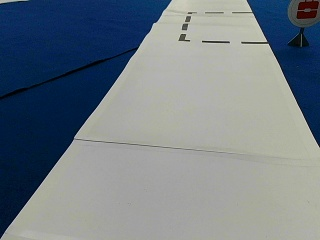company: (287, 0, 319, 26)
